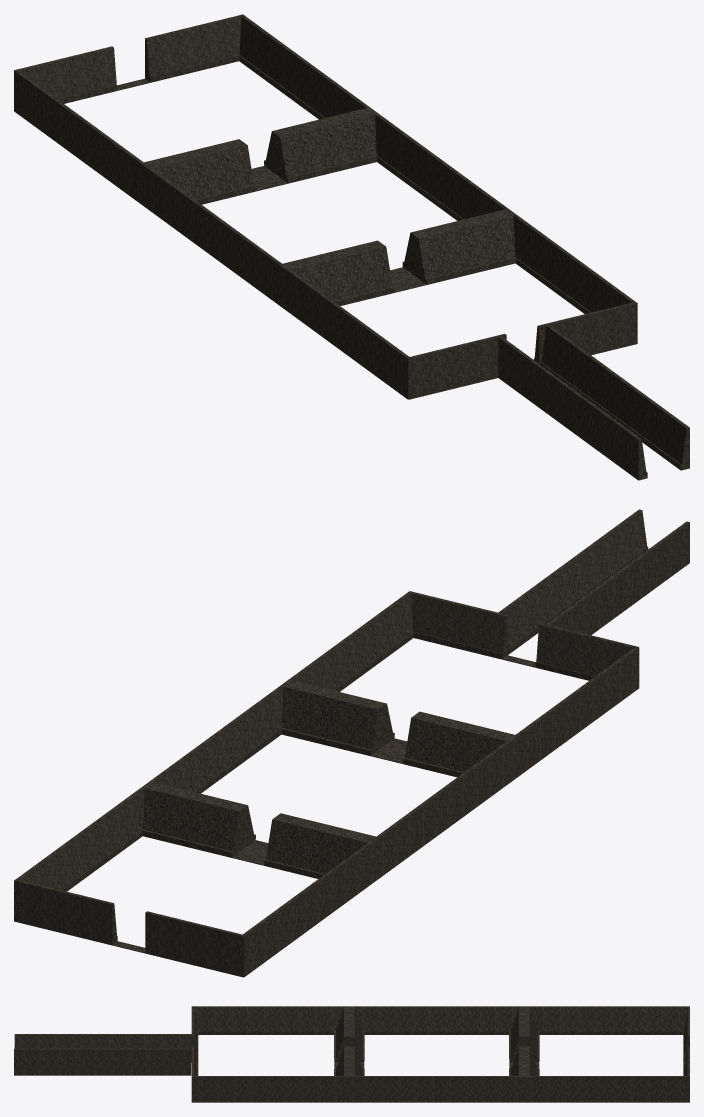
The model's file is room_3chambers.fbx.
The picture shows the model from 3 angles, top to bottom: view 1: azimuth 30°, elevation 25°; view 2: azimuth 150°, elevation 25°; view 3: azimuth 270°, elevation 25°; orthographic projection. The views are drawn at different scales.
Parts seen in each view (by area): view 1: pCube28; view 2: pCube28; view 3: pCube28.
Boxes of the visible parts, x1=… form: pCube28: x1=14, y1=14, x2=689, y2=480; pCube28: x1=14, y1=509, x2=689, y2=977; pCube28: x1=14, y1=1006, x2=689, y2=1102.
Bounding box in the file's own units: 70.53 × 12 × 285.
Materials: 2 (1 with a texture image).
